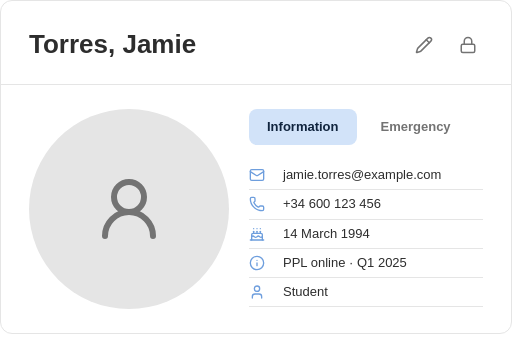
Test: ProfileCard › switches to the Emergency tab and shows its fields when clicked
Click the tab "Emergency". click: (416,127)
box: top-left (362, 109), bottom-right (469, 145)
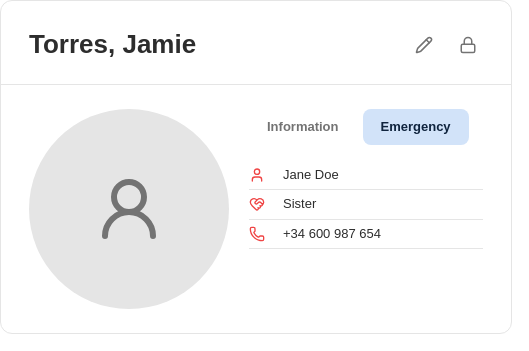
Expected: the text "Jane Doe" is shown, top-left (282, 166), bottom-right (367, 182)
Expected: the text "Sister" is shown, top-left (282, 195), bottom-right (333, 211)
Expected: the text "+34 600 987 654" is shown, top-left (282, 225), bottom-right (381, 241)
